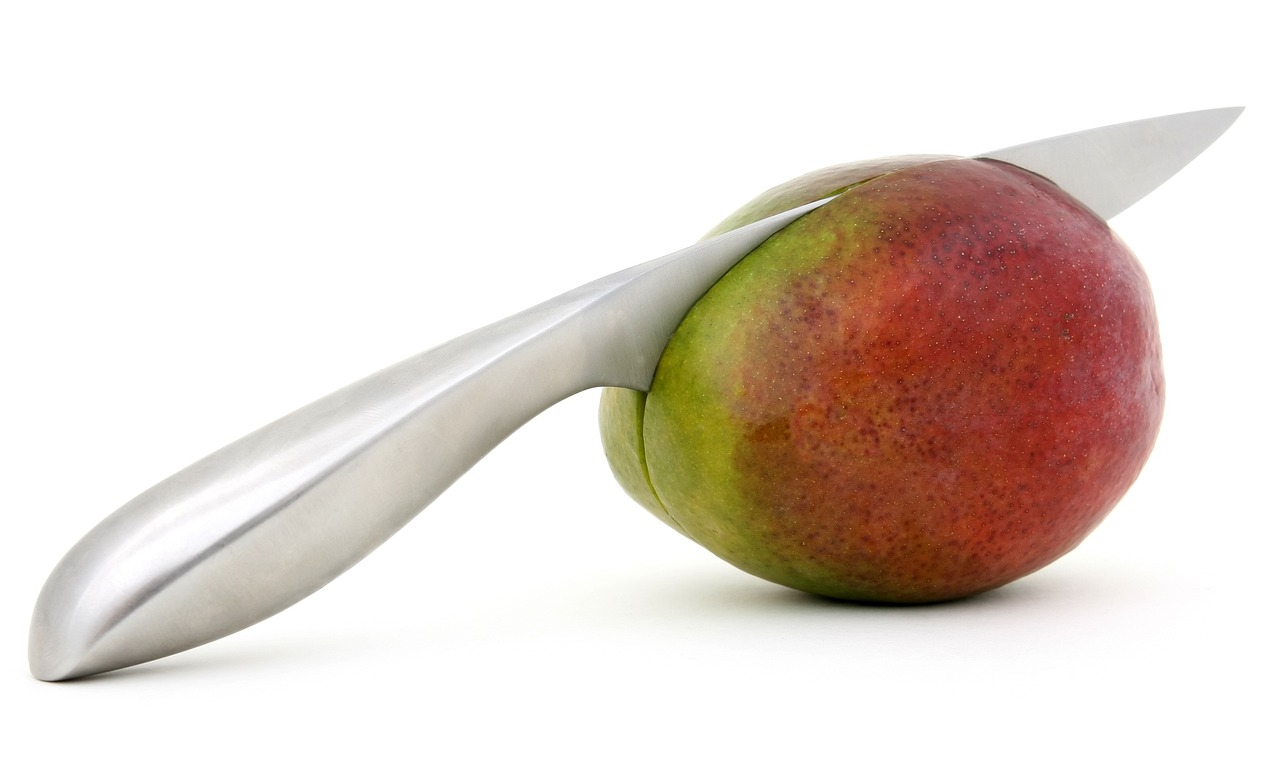knife: (8, 98, 1247, 689)
